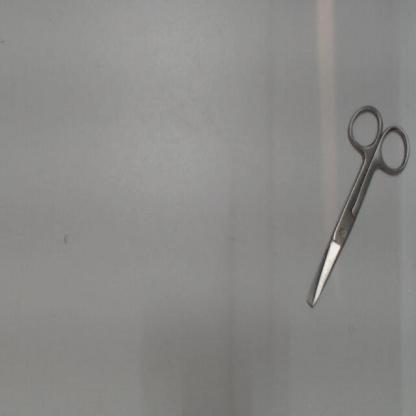Dressing Scissors: (298, 95, 414, 320)
